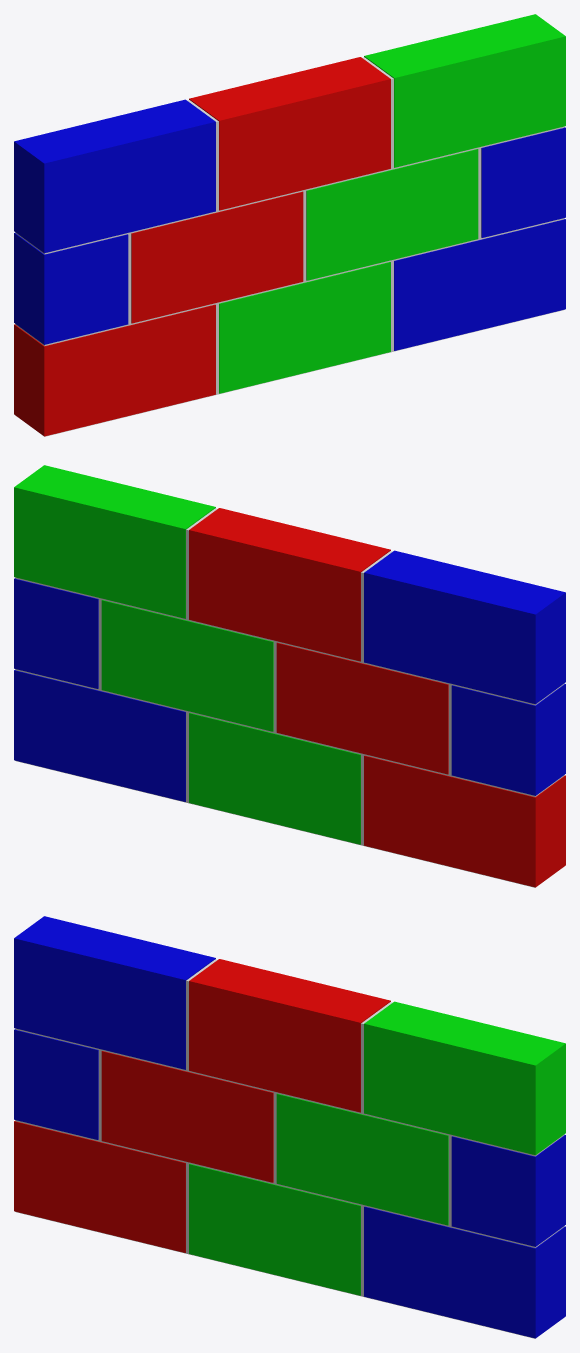
The model's file is brickwall.fbx.
3 renders of one model, top to bottom at view 1: azimuth 30°, elevation 25°; view 2: azimuth 150°, elevation 25°; view 3: azimuth 330°, elevation 25°, orthographic.
Parts seen in each view (by area): view 1: Cube.006, Cube.008, Cube.007, Cube, Cube.004, Cube.005, Cube.001, Cube.002, Cube.003, Cube.009, Cube.010; view 2: Cube.006, Cube.008, Cube.007, Cube, Cube.004, Cube.005, Cube.001, Cube.002, Cube.003, Cube.009, Cube.010; view 3: Cube.008, Cube.006, Cube.007, Cube.002, Cube.004, Cube.005, Cube.001, Cube, Cube.009, Cube.003, Cube.010.
Part boxes in pixels (x1,y1,x2,y2): Cube.006: (14, 99, 215, 253); Cube.008: (364, 14, 565, 167); Cube.007: (189, 57, 390, 210); Cube: (14, 304, 215, 436); Cube.004: (131, 191, 303, 323); Cube.005: (306, 149, 478, 280); Cube.001: (219, 262, 390, 393); Cube.002: (394, 219, 565, 350); Cube.003: (14, 233, 128, 344); Cube.009: (481, 127, 565, 237); Cube.010: (15, 57, 564, 436); Cube.006: (364, 550, 565, 704); Cube.008: (14, 465, 215, 618); Cube.007: (189, 508, 390, 661); Cube: (364, 755, 565, 887); Cube.004: (276, 642, 448, 774); Cube.005: (101, 600, 273, 731); Cube.001: (189, 713, 360, 844); Cube.002: (14, 670, 185, 801); Cube.003: (451, 684, 565, 795); Cube.009: (14, 578, 98, 688); Cube.010: (15, 508, 564, 887); Cube.008: (364, 1001, 565, 1155); Cube.006: (14, 916, 215, 1069); Cube.007: (189, 959, 390, 1112); Cube.002: (364, 1206, 565, 1338); Cube.004: (101, 1051, 273, 1182); Cube.005: (276, 1093, 448, 1225); Cube.001: (189, 1164, 360, 1295); Cube: (14, 1121, 185, 1252); Cube.009: (451, 1135, 565, 1246); Cube.003: (14, 1029, 98, 1139); Cube.010: (15, 959, 564, 1338).
Size of the model in its own units: 5.96 by 2.99 by 0.6.
